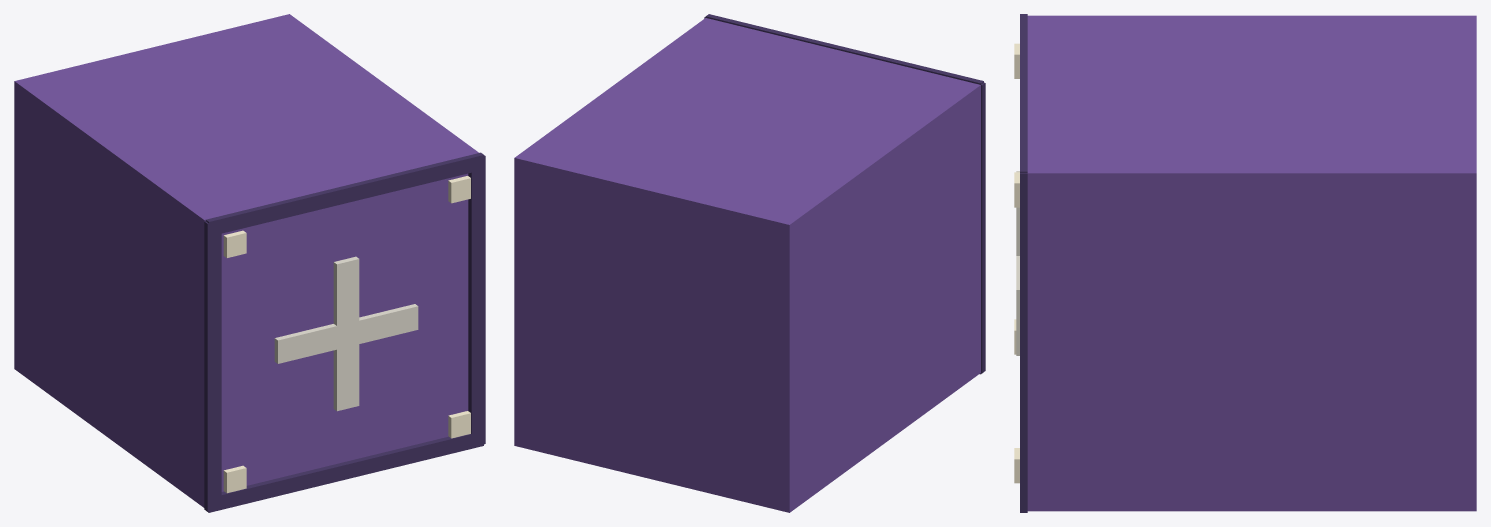
Rendered from block-hush.glb.
3 views of the same model, side by side, from view 1: azimuth 30°, elevation 25°; view 2: azimuth 150°, elevation 25°; view 3: azimuth 270°, elevation 25° (orthographic). The views are drawn at different scales.
Visible parts, largest first — view 1: Model; view 2: Model; view 3: Model.
Boxes of the visible parts, <box> form: Model: <box>14,14,485,512</box>; Model: <box>514,14,985,512</box>; Model: <box>1014,14,1476,512</box>.
Bounding box in the file's own units: 0.99 × 0.99 × 1.21.
1 material, 1 textured.
